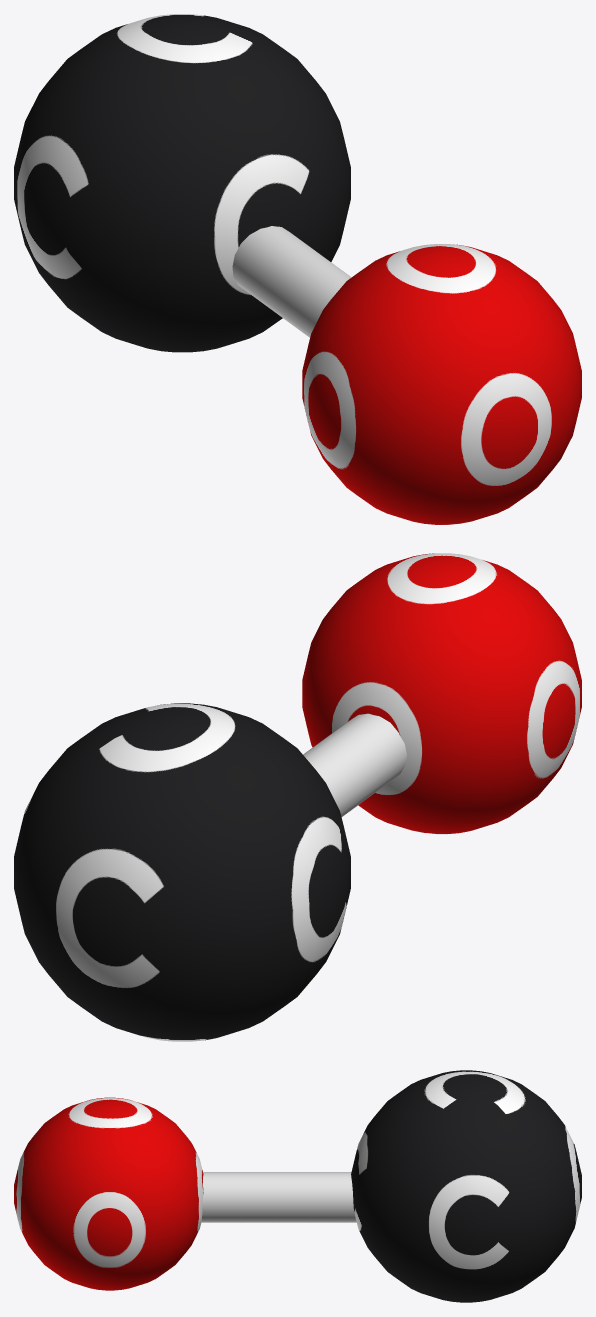
File: CO_tex2.FBX
3 views of the same model, one above another, from view 1: azimuth 30°, elevation 25°; view 2: azimuth 150°, elevation 25°; view 3: azimuth 270°, elevation 25° (orthographic). The views are drawn at different scales.
Parts seen in each view (by area): view 1: Sphere001, H1, Cylinder001; view 2: Sphere001, H1, Cylinder001; view 3: Sphere001, H1, Cylinder001.
Boxes of the visible parts, <box> form: Sphere001: <box>14,14,350,352</box>; H1: <box>302,244,581,524</box>; Cylinder001: <box>232,226,351,337</box>; Sphere001: <box>14,703,350,1041</box>; H1: <box>302,553,581,834</box>; Cylinder001: <box>303,713,406,816</box>; Sphere001: <box>351,1070,581,1302</box>; H1: <box>14,1097,203,1290</box>; Cylinder001: <box>201,1172,356,1222</box>.
Size of the model in its own units: 39.56 by 40 by 97.72.
Materials: 2 (2 with a texture image).
